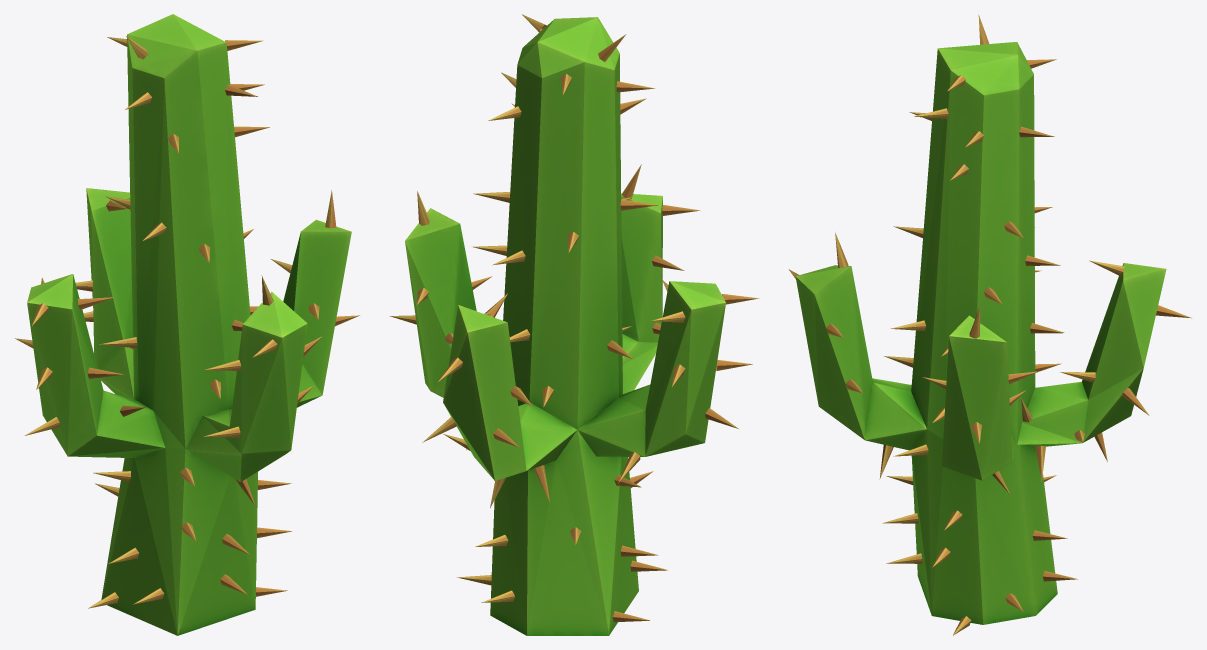
The model's file is Cactus_3.fbx.
The picture shows the model from 3 angles, left to right: view 1: azimuth 30°, elevation 25°; view 2: azimuth 150°, elevation 25°; view 3: azimuth 270°, elevation 25°; orthographic projection. The views are drawn at different scales.
Parts seen in each view (by area): view 1: Cactus_3; view 2: Cactus_3; view 3: Cactus_3.
Boxes of the visible parts, left/top/right/bottom form: Cactus_3: left=15, top=14, right=359, bottom=635; Cactus_3: left=389, top=14, right=759, bottom=635; Cactus_3: left=788, top=14, right=1191, bottom=635.
Size of the model in its own units: 38.57 by 40.76 by 61.85.
Materials: 1 (1 with a texture image).
